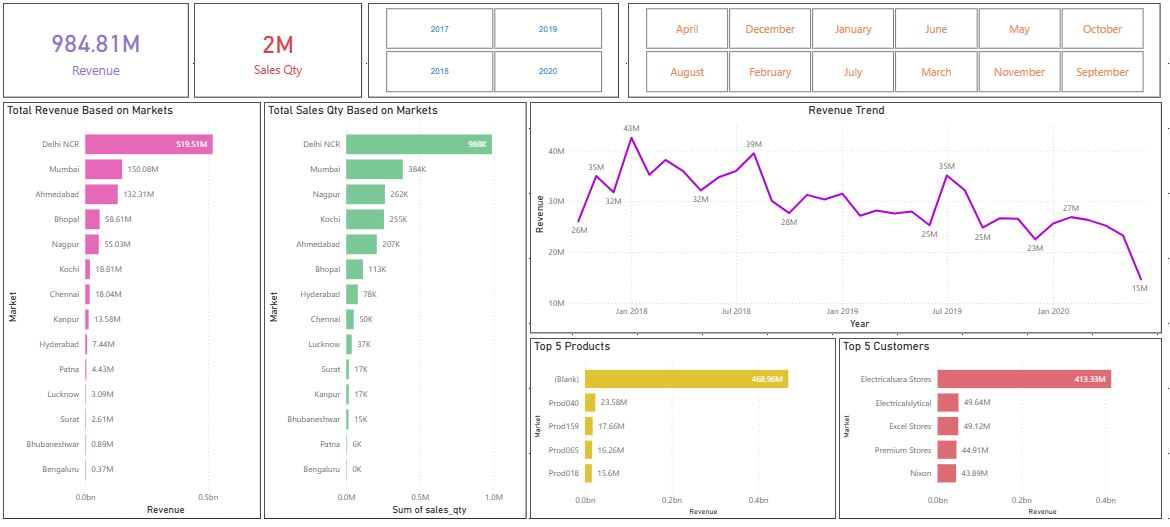

The dashboard page shown, as its layout file describes it:
{"tool":"powerbi","page":{"name":"Page 1","canvas":[1791,901],"ordinal":0},"visuals":[{"type":"card","fields":{"Values":["BaseMeasures.Revenue"]},"box":[23.5,7.7,272.9,138.6],"z":0},{"type":"card","fields":{"Values":["BaseMeasures.Sales Qty"]},"box":[305,7.7,247.1,138.6],"z":1000},{"type":"barChart","title":"Total Revenue Based on Markets","fields":{"Y":["BaseMeasures.Revenue"],"Category":["sales markets.markets_name"]},"box":[23.5,153.4,378.6,612.9],"z":2000},{"type":"barChart","title":"Total Sales Qty Based on Markets","fields":{"Y":["Sum(sales transactions.sales_qty)"],"Category":["sales markets.markets_name"]},"box":[407.8,153.4,385.7,612.9],"z":3000},{"type":"slicer","fields":{"Values":["sales date.year"]},"box":[560.7,7.7,368.6,138.6],"z":4000},{"type":"slicer","fields":{"Values":["sales date.month_name"]},"box":[942.1,7.7,782.9,138.6],"z":5000},{"type":"barChart","title":"Top 5 Customers","fields":{"Y":["BaseMeasures.Revenue"],"Category":["sales customers.custmer_name"]},"box":[1252.9,500,475,266.2],"z":6000},{"type":"barChart","title":"Top 5 Products","fields":{"Y":["BaseMeasures.Revenue"],"Category":["sales products.product_code"]},"box":[798.5,500,450,266.2],"z":7000},{"type":"lineChart","title":"Revenue Trend","fields":{"Y":["BaseMeasures.Revenue"],"Category":["sales date.cy_date.Variation.Date Hierarchy.Year","sales date.cy_date.Variation.Date Hierarchy.Quarter","sales date.cy_date.Variation.Date Hierarchy.Month","sales date.cy_date.Variation.Date Hierarchy.Day"]},"box":[799.2,153.4,928.6,340],"z":8000}]}

Visuals, with their boxes on the page's 1791x901 design canvas (x1, y1, x2, y2). These are canvas units, not pixel positions in the 1170x527 screenshot, which may show the page scaled, cropped or inside an application window:
card - BaseMeasures.Revenue: crop(24, 8, 296, 146)
card - BaseMeasures.Sales Qty: crop(305, 8, 552, 146)
"Total Revenue Based on Markets" barChart: crop(24, 153, 402, 766)
"Total Sales Qty Based on Markets" barChart: crop(408, 153, 794, 766)
slicer - sales date.year: crop(561, 8, 929, 146)
slicer - sales date.month_name: crop(942, 8, 1725, 146)
"Top 5 Customers" barChart: crop(1253, 500, 1728, 766)
"Top 5 Products" barChart: crop(798, 500, 1248, 766)
"Revenue Trend" lineChart: crop(799, 153, 1728, 493)
